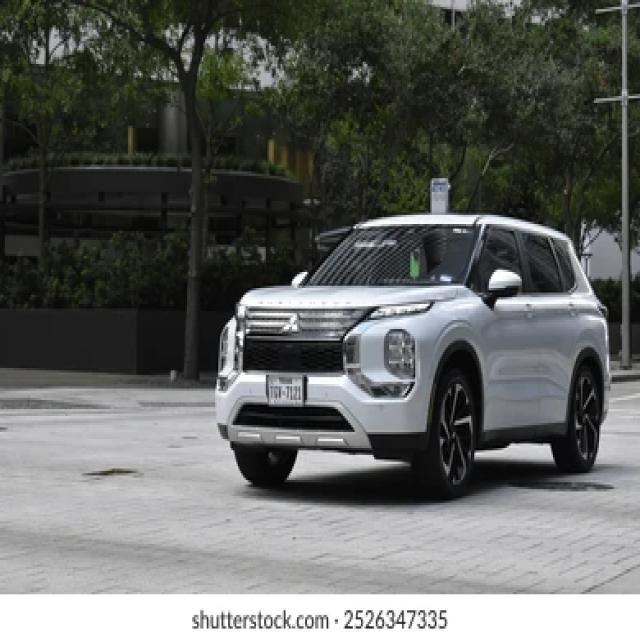mitsubishi: (284, 311, 304, 338)
